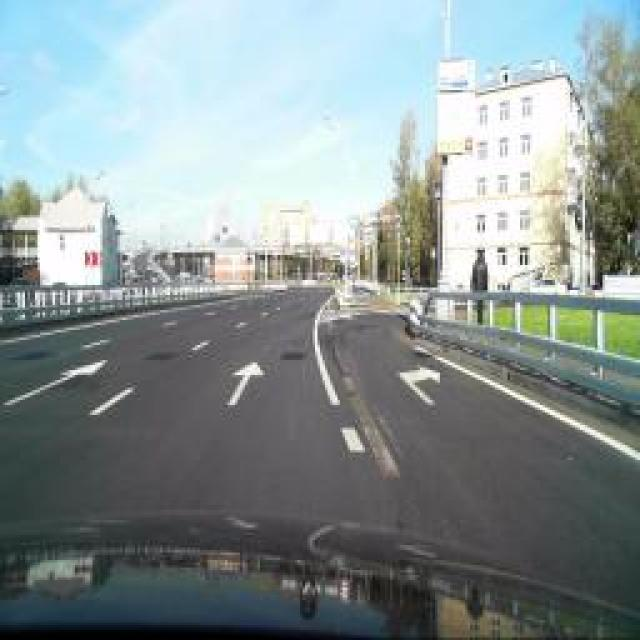sign: (434, 178, 441, 204)
